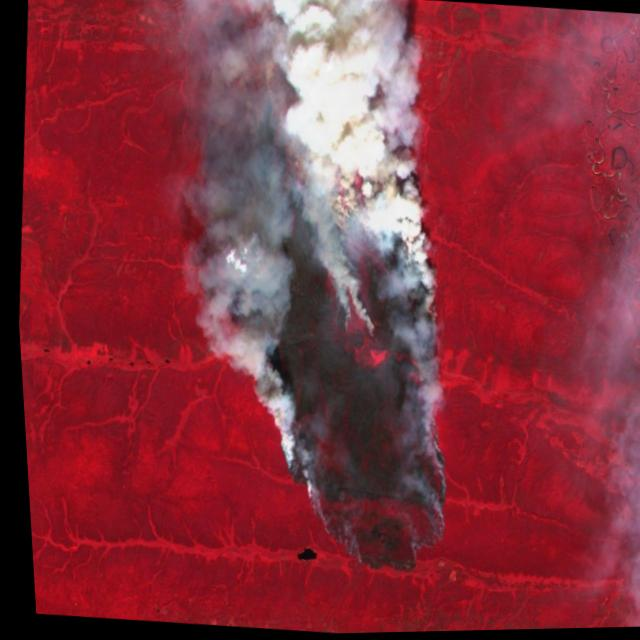fire: (179, 103, 480, 580)
